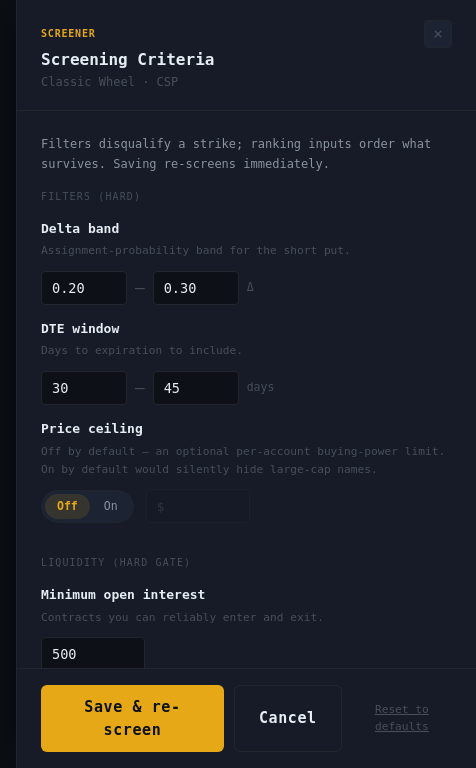
Test: binds a field error returned by the mutation to that field
Click the button "Save & re-screen".
click(132, 718)  # box [41,685,224,752]
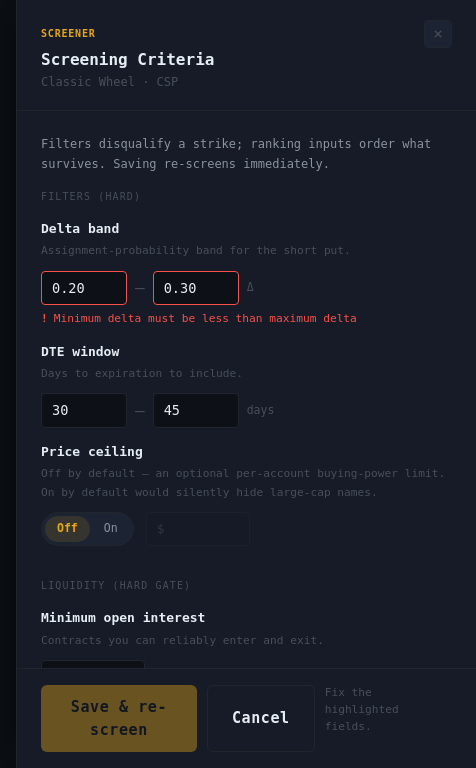
Expected: the text "Minimum delta must be less than maximum delta" is shown, [54,312,357,325]
